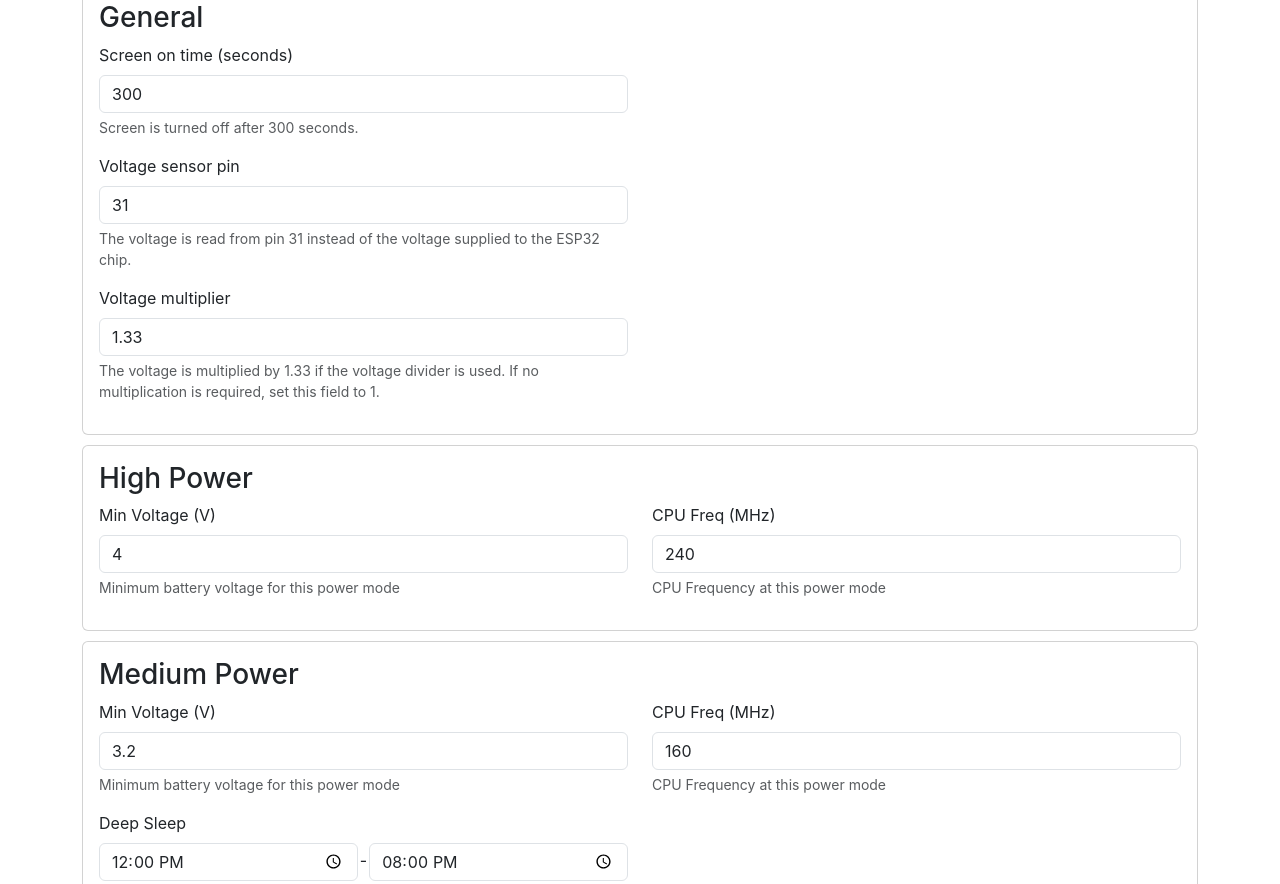
when saving › validation error when incorrect voltage multiplier
Clear the number field with test id "voltage-multiplier" at (364, 337), box [99,318,628,356]
(page scrolled)
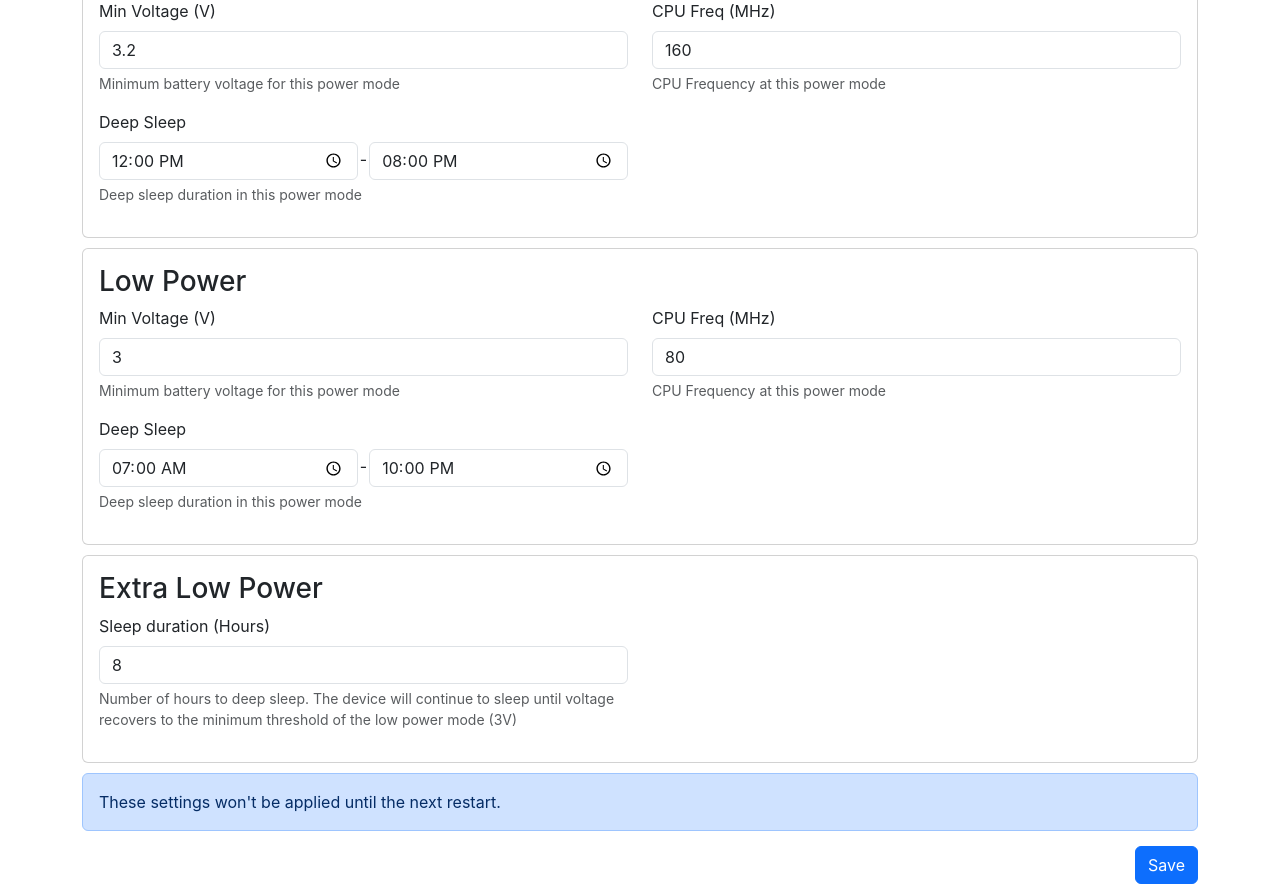
Click the button with test id "save-button" at (1166, 865), box [1135,846,1198,883]
(page scrolled)
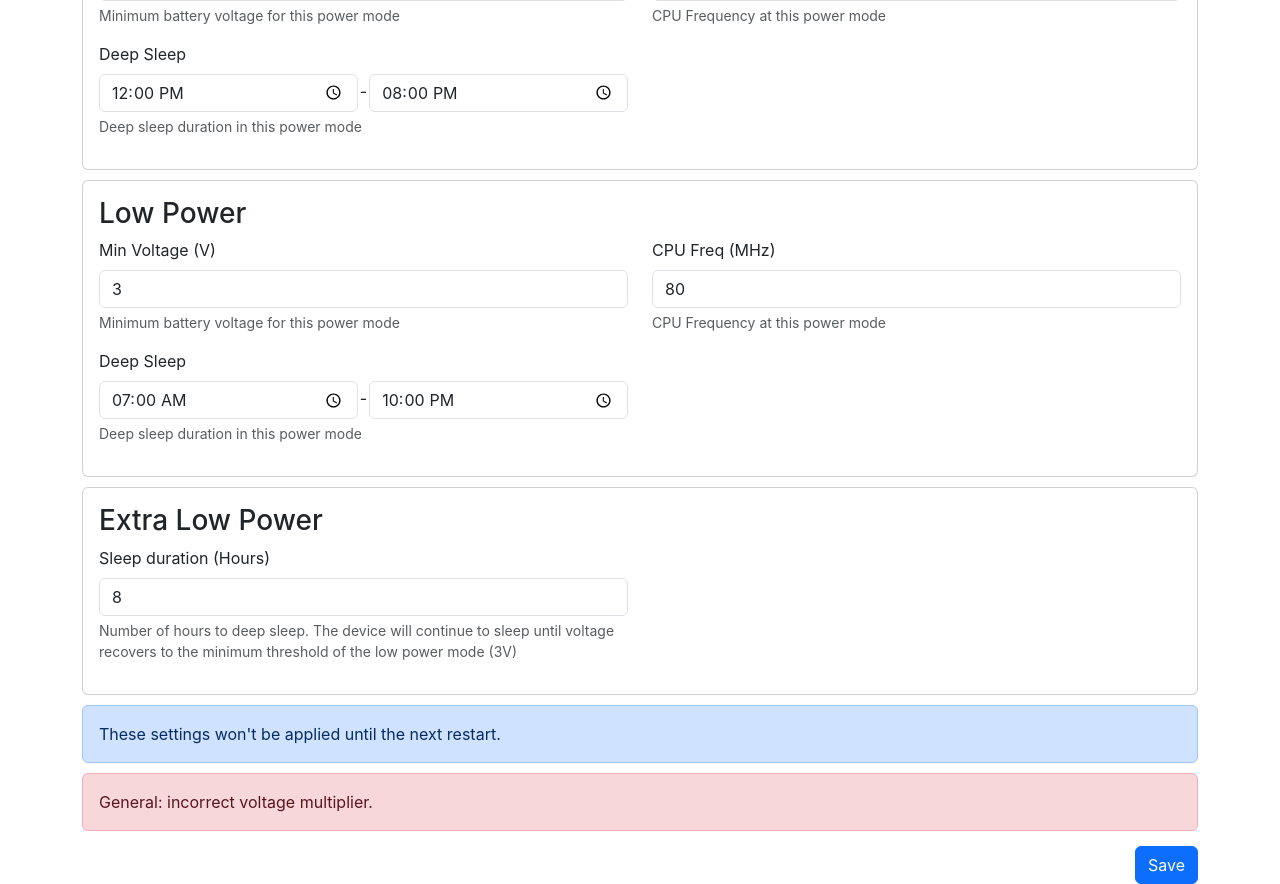
Expected: the element with test id "power-config-validation-error" shows "General: incorrect voltage multiplier", [99,792,373,812]
